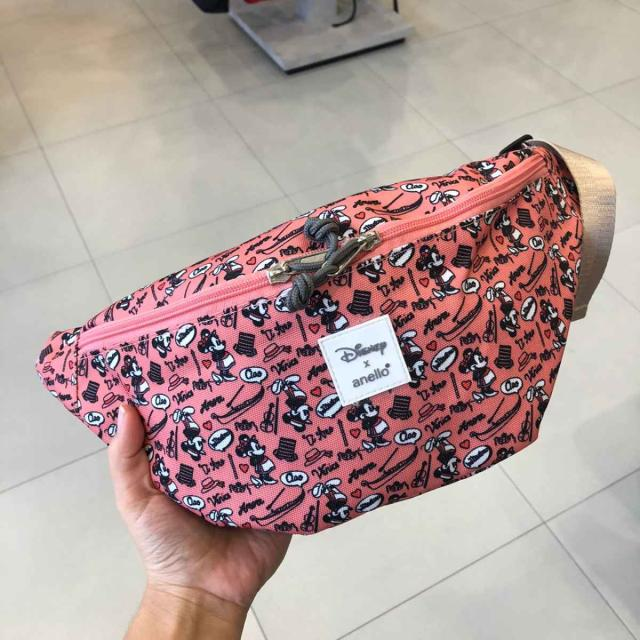handbag: (37, 145, 585, 533)
